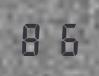eight: (19, 20, 48, 56)
six: (49, 20, 78, 56)
